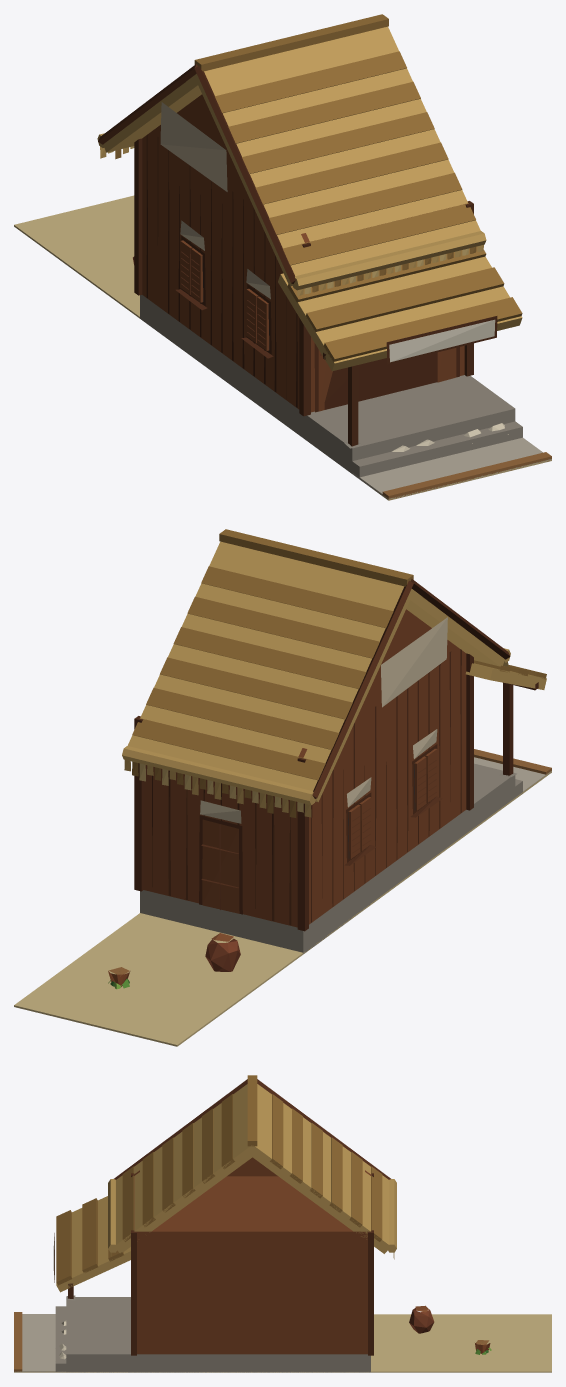
File: bay2_left.glb
The picture shows the model from 3 angles, top to bottom: view 1: azimuth 30°, elevation 25°; view 2: azimuth 150°, elevation 25°; view 3: azimuth 270°, elevation 25°; orthographic projection. The views are drawn at different scales.
Visible parts, largest first — view 1: body; view 2: body; view 3: body.
Part boxes in pixels (x1,y1,x2,y2): body: (14,14,551,500); body: (14,529,551,1046); body: (14,1075,551,1372).
Bounding box in the file's own units: 4.8 × 7.85 × 15.9.
